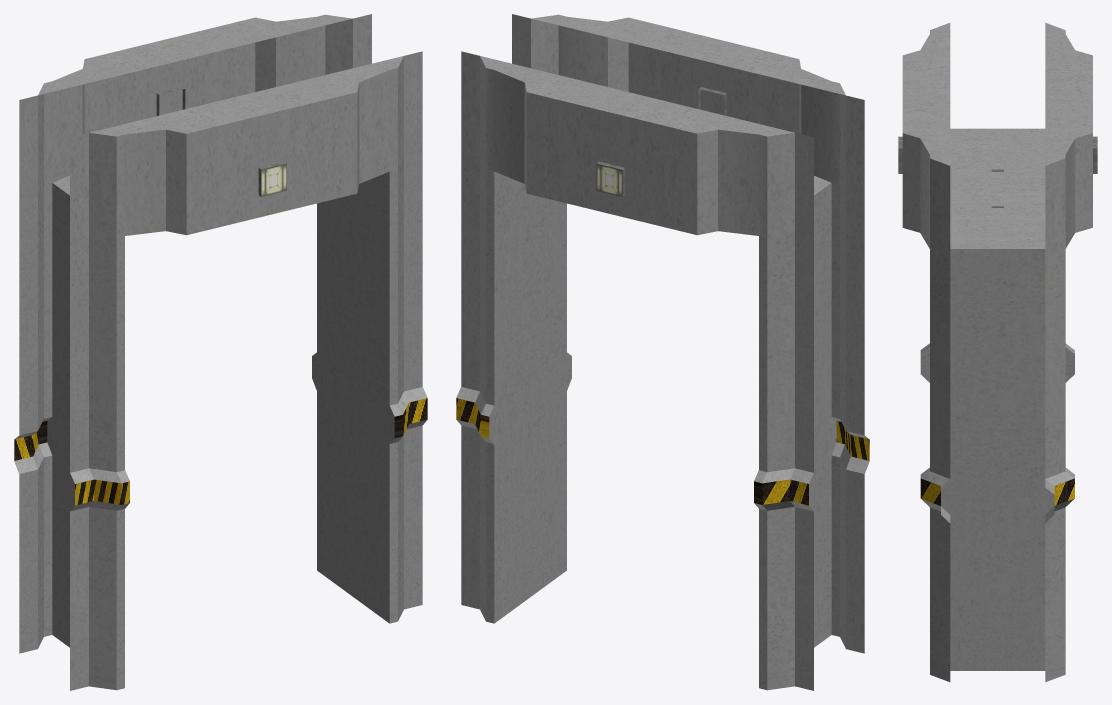
File: Wall_Big_Frame_1m.FBX
The picture shows the model from 3 angles, left to right: view 1: azimuth 30°, elevation 25°; view 2: azimuth 150°, elevation 25°; view 3: azimuth 270°, elevation 25°; orthographic projection. The views are drawn at different scales.
Visible parts, largest first — view 1: Wall_Big_Frame_1m_mesh; view 2: Wall_Big_Frame_1m_mesh; view 3: Wall_Big_Frame_1m_mesh.
Part boxes in pixels (<box>): Wall_Big_Frame_1m_mesh: <box>14,14,427,690</box>; Wall_Big_Frame_1m_mesh: <box>456,14,869,690</box>; Wall_Big_Frame_1m_mesh: <box>898,22,1097,682</box>.
Size of the model in its own units: 400 by 600 by 210.
3 materials, 3 textured.
